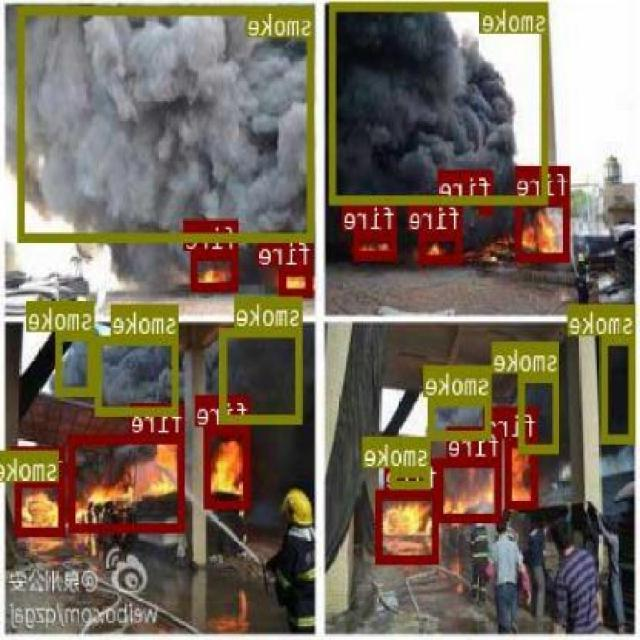Fire: (70, 433, 186, 530), (376, 488, 441, 562), (440, 457, 502, 520), (205, 425, 250, 507), (518, 197, 572, 260), (17, 477, 66, 534), (508, 438, 538, 508), (192, 249, 240, 289), (421, 230, 464, 262), (356, 230, 398, 258), (281, 264, 314, 296), (481, 200, 494, 212)
Smoke: (19, 5, 315, 241), (330, 0, 550, 202), (222, 326, 304, 422), (96, 334, 181, 414), (603, 334, 637, 442), (519, 372, 561, 452), (430, 396, 492, 438), (58, 330, 94, 395), (392, 466, 432, 486), (34, 448, 60, 474)
